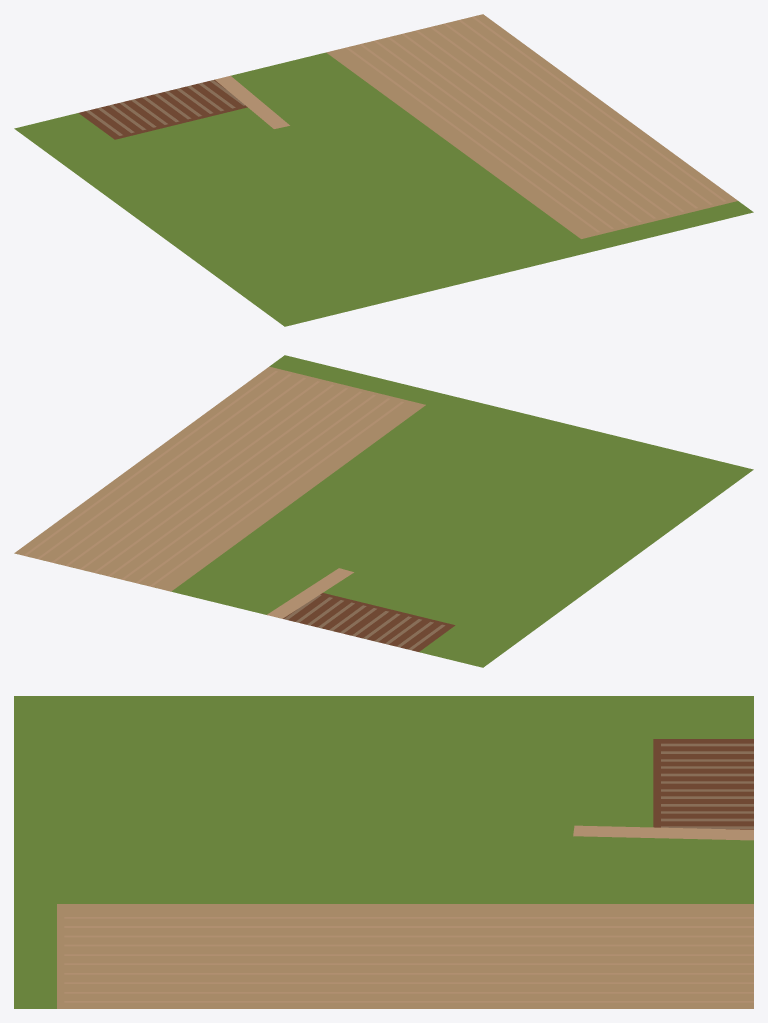
File: crossing-0-5.glb
3 renders of one model, top to bottom at view 1: azimuth 30°, elevation 25°; view 2: azimuth 150°, elevation 25°; view 3: azimuth 270°, elevation 25°, orthographic. The views are drawn at different scales.
Parts seen in each view (by area): view 1: crossing-0-5; view 2: crossing-0-5; view 3: crossing-0-5.
Boxes of the visible parts, x1=… form: crossing-0-5: x1=14, y1=14, x2=753, y2=326; crossing-0-5: x1=14, y1=355, x2=753, y2=667; crossing-0-5: x1=14, y1=696, x2=753, y2=1008.
Bounding box in the file's own units: 100 × 0.0072 × 100.
